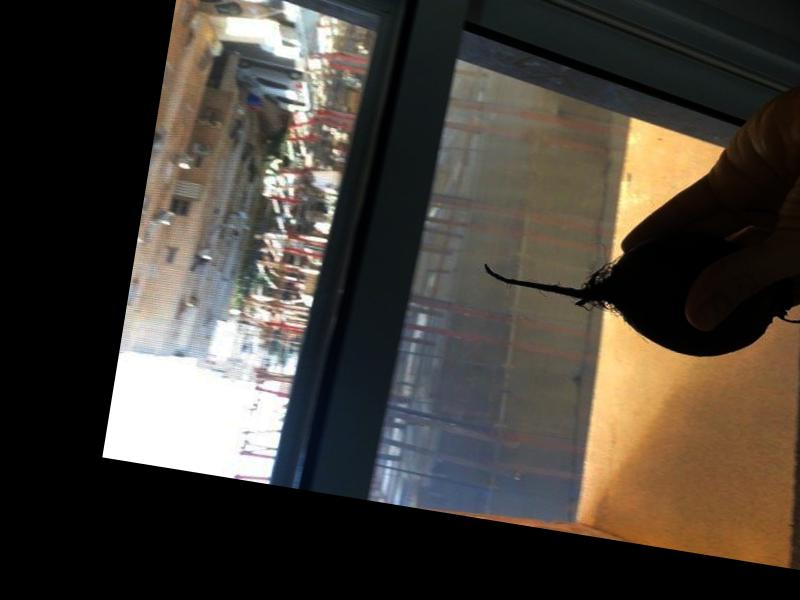Beet: (474, 164, 800, 378)
